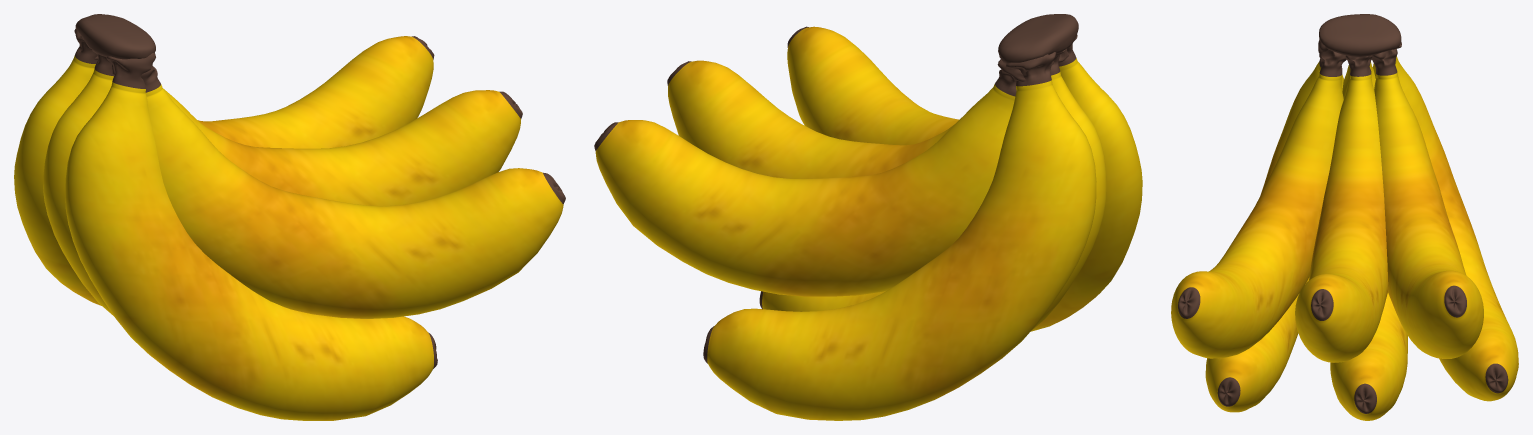
File: Bananas2.fbx
3 views of the same model, side by side, from view 1: azimuth 30°, elevation 25°; view 2: azimuth 150°, elevation 25°; view 3: azimuth 270°, elevation 25° (orthographic). The views are drawn at different scales.
Visible parts, largest first — view 1: pCube2; view 2: pCube2; view 3: pCube2.
Boxes of the visible parts, bbox=[...] form: pCube2: bbox=[14, 14, 565, 420]; pCube2: bbox=[594, 14, 1142, 420]; pCube2: bbox=[1171, 14, 1518, 420].
Size of the model in its own units: 3.32 by 2.64 by 2.63.
3 materials, 3 textured.
